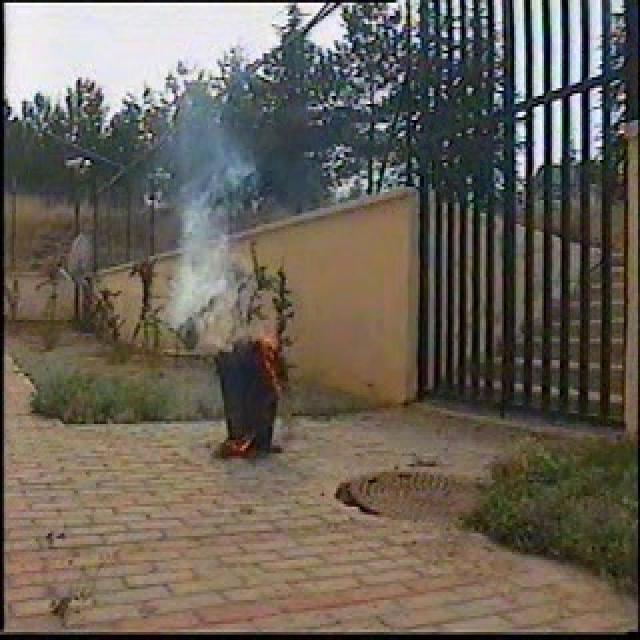smoke: (174, 151, 230, 318)
